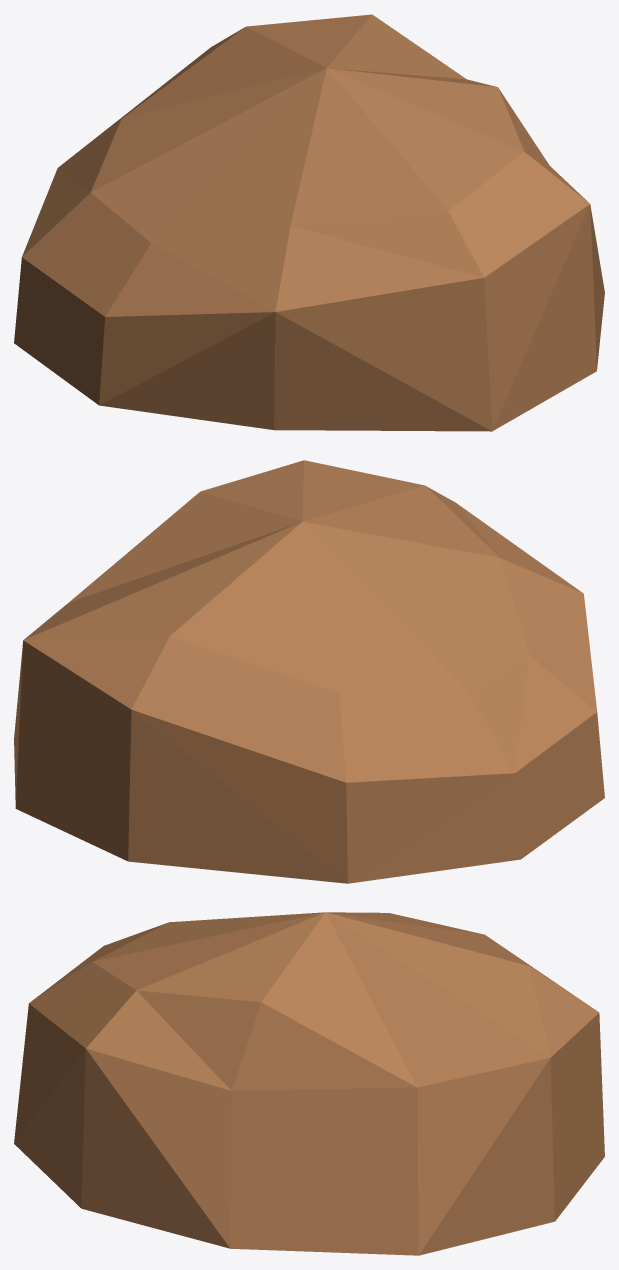
Rendered from Stone_6.fbx.
The picture shows the model from 3 angles, top to bottom: view 1: azimuth 30°, elevation 25°; view 2: azimuth 150°, elevation 25°; view 3: azimuth 270°, elevation 25°; orthographic projection. The views are drawn at different scales.
Visible parts, largest first — view 1: Stone_6; view 2: Stone_6; view 3: Stone_6.
Part boxes in pixels (<box>): Stone_6: <box>14,14,604,431</box>; Stone_6: <box>14,460,604,883</box>; Stone_6: <box>14,912,604,1255</box>.
Bounding box in the file's own units: 198 × 210 × 90.5.
